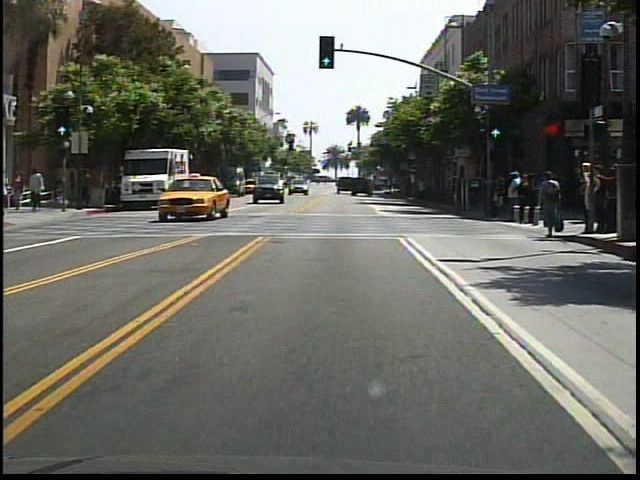person: (534, 167, 564, 238), (504, 166, 523, 226), (29, 164, 50, 214), (82, 168, 98, 210), (13, 172, 29, 213), (68, 169, 81, 206)
